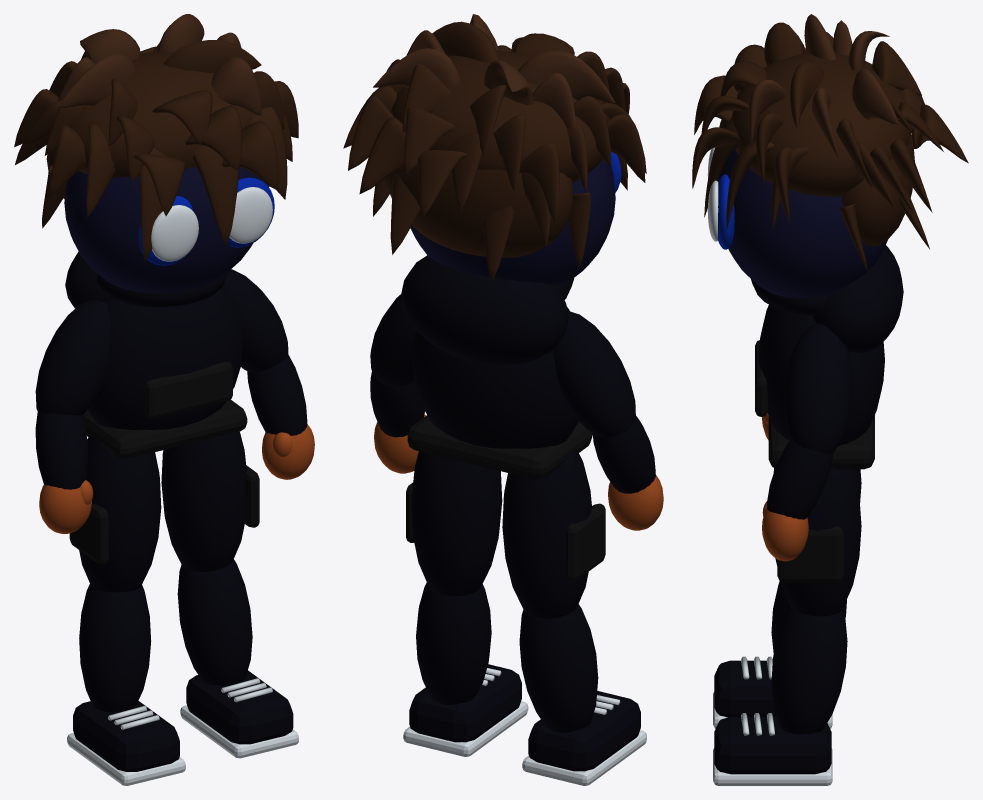
File: Retree.glb
3 views of the same model, side by side, from view 1: azimuth 30°, elevation 25°; view 2: azimuth 150°, elevation 25°; view 3: azimuth 270°, elevation 25° (orthographic). The views are drawn at different scales.
Visible parts, largest first — view 1: RETREE_STANDING; view 2: RETREE_STANDING; view 3: RETREE_STANDING.
Part boxes in pixels (x1=…): RETREE_STANDING: x1=14, y1=14, x2=314, y2=785; RETREE_STANDING: x1=343, y1=14, x2=663, y2=785; RETREE_STANDING: x1=692, y1=14, x2=968, y2=785.
Bounding box in the file's own units: 0.718 × 1.74 × 0.6243.
